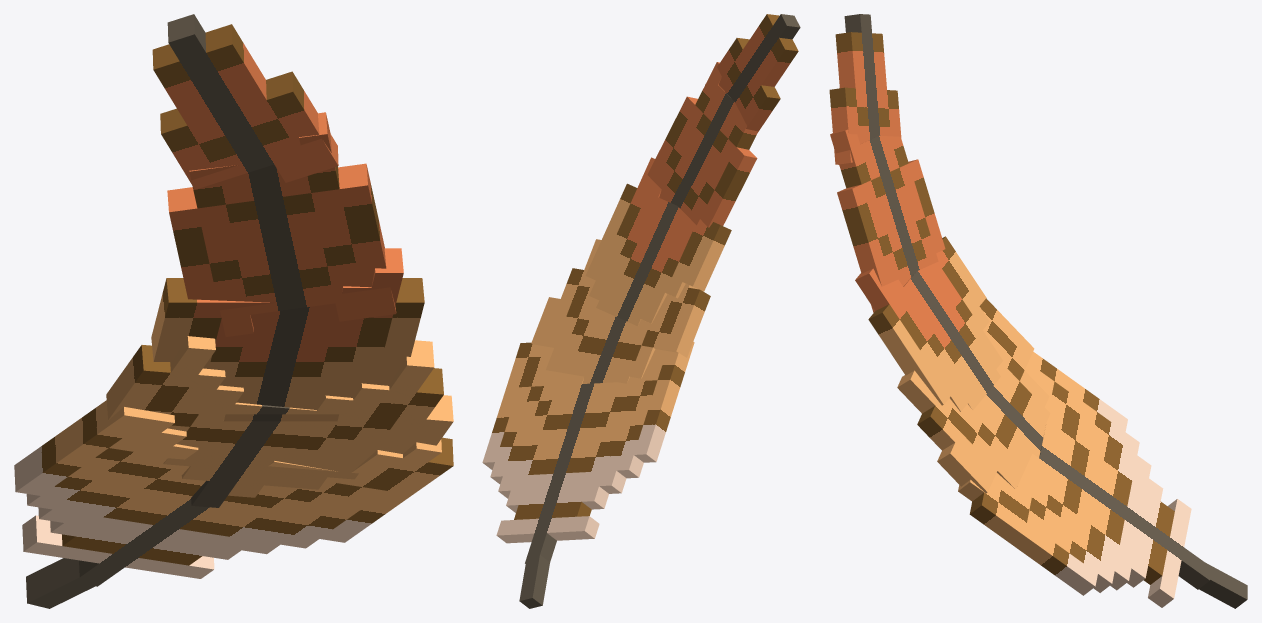
File: feather.gltf
The picture shows the model from 3 angles, left to right: view 1: azimuth 30°, elevation 25°; view 2: azimuth 150°, elevation 25°; view 3: azimuth 270°, elevation 25°; orthographic projection. The views are drawn at different scales.
Visible parts, largest first — view 1: feather02-Local, feather05-Local, feather03-Local, feather04-Local, feather06-Local, feather-Local; view 2: feather02-Local, feather04-Local, feather03-Local, feather05-Local, feather06-Local, feather-Local; view 3: feather02-Local, feather04-Local, feather03-Local, feather05-Local, feather06-Local, feather-Local.
Part boxes in pixels (left/top/right/bottom): feather02-Local: left=14, top=400, right=453, bottom=586; feather05-Local: left=167, top=112, right=396, bottom=336; feather03-Local: left=106, top=336, right=453, bottom=507; feather04-Local: left=151, top=248, right=424, bottom=421; feather06-Local: left=152, top=14, right=338, bottom=189; feather-Local: left=26, top=558, right=102, bottom=608; feather02-Local: left=482, top=342, right=694, bottom=563; feather04-Local: left=585, top=157, right=731, bottom=325; feather03-Local: left=531, top=239, right=710, bottom=383; feather05-Local: left=647, top=62, right=758, bottom=227; feather06-Local: left=705, top=14, right=800, bottom=131; feather-Local: left=519, top=555, right=549, bottom=608; feather02-Local: left=958, top=351, right=1212, bottom=607; feather04-Local: left=855, top=236, right=1002, bottom=411; feather03-Local: left=897, top=298, right=1050, bottom=493; feather05-Local: left=830, top=129, right=945, bottom=312; feather06-Local: left=829, top=14, right=901, bottom=164; feather-Local: left=1199, top=562, right=1247, bottom=608.
Size of the model in its own units: 15.52 by 32.18 by 22.18.
Materials: 6 (6 with a texture image).
